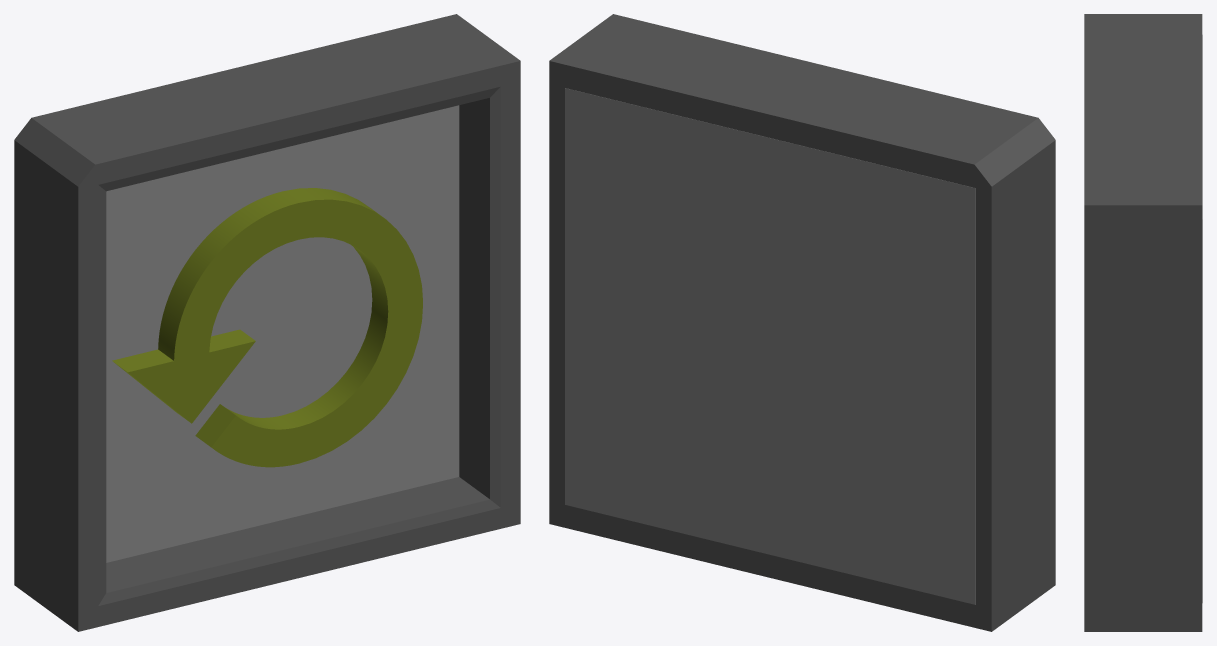
File: buttons_reset.glb
3 views of the same model, side by side, from view 1: azimuth 30°, elevation 25°; view 2: azimuth 150°, elevation 25°; view 3: azimuth 270°, elevation 25° (orthographic). The views are drawn at different scales.
Parts seen in each view (by area): view 1: Cube.005, Cube.009, Curve.006; view 2: Cube.009, Cube.005; view 3: Cube.005, Cube.009.
Part boxes in pixels (x1,y1,x2,y2): Cube.005: [14, 14, 520, 631]; Cube.009: [106, 105, 459, 562]; Curve.006: [112, 188, 422, 467]; Cube.009: [565, 88, 975, 604]; Cube.005: [549, 14, 1055, 631]; Cube.005: [1084, 14, 1202, 631]; Cube.009: [1202, 35, 1202, 602].
Bounding box in the file's own units: 3.99 × 3.99 × 1.
